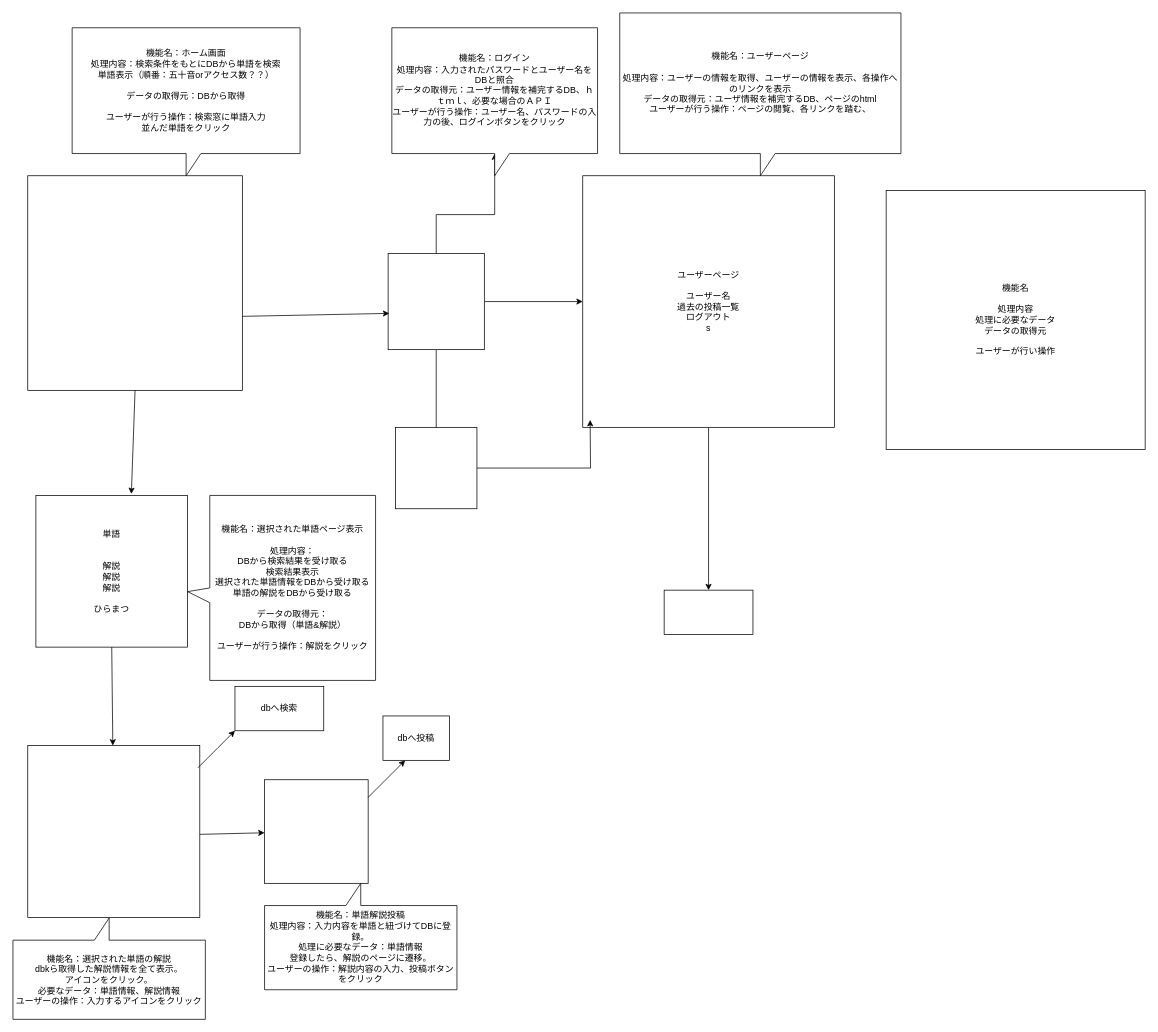
The diagram is 1158 pixels wide and 1032 high, and some of its shapes have lost their labels. Each missing label, with the box of its shape:
ホーム画面 検索窓 単語がずらり ひらまつ: (27, 175, 242, 390)
ログイン パスワード ユーザー名 ひろみ: (387, 253, 484, 350)
ログインした状態: (663, 589, 753, 635)
単語の解説 書き込むアイコン りょーへい: (27, 745, 200, 918)
登録画面 名前 パスワード e-mail twitter,google API: (395, 427, 477, 509)
解説 投稿 りょーへい: (264, 779, 368, 883)
